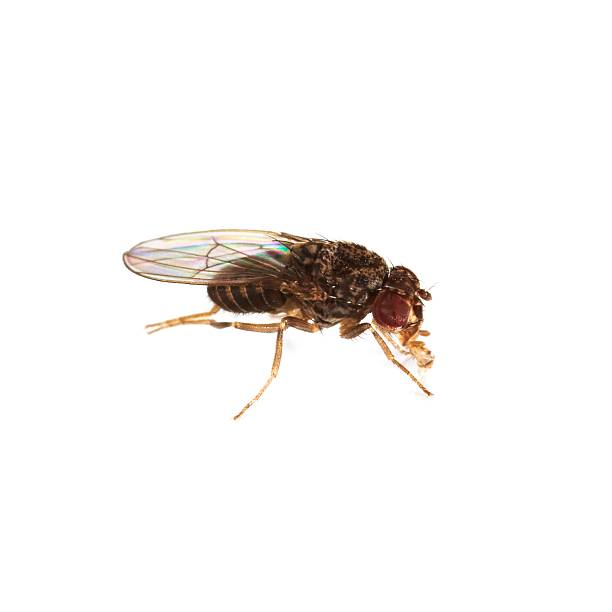Fruit fly: (108, 201, 467, 468)
